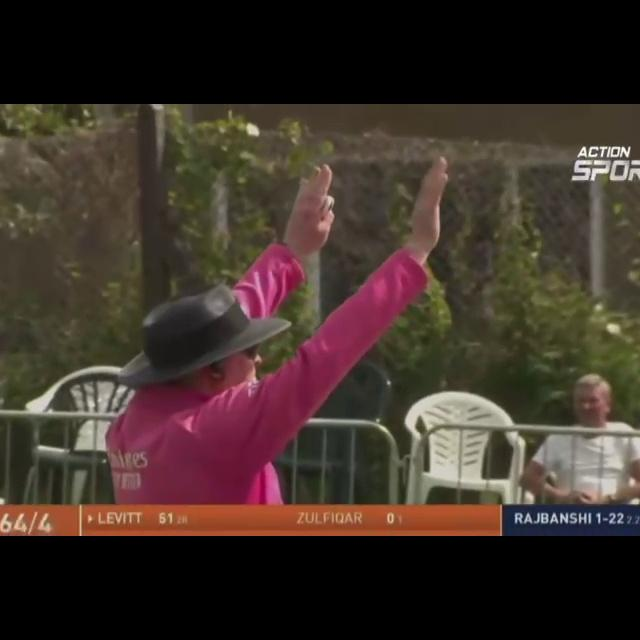umpire: (98, 121, 498, 499)
